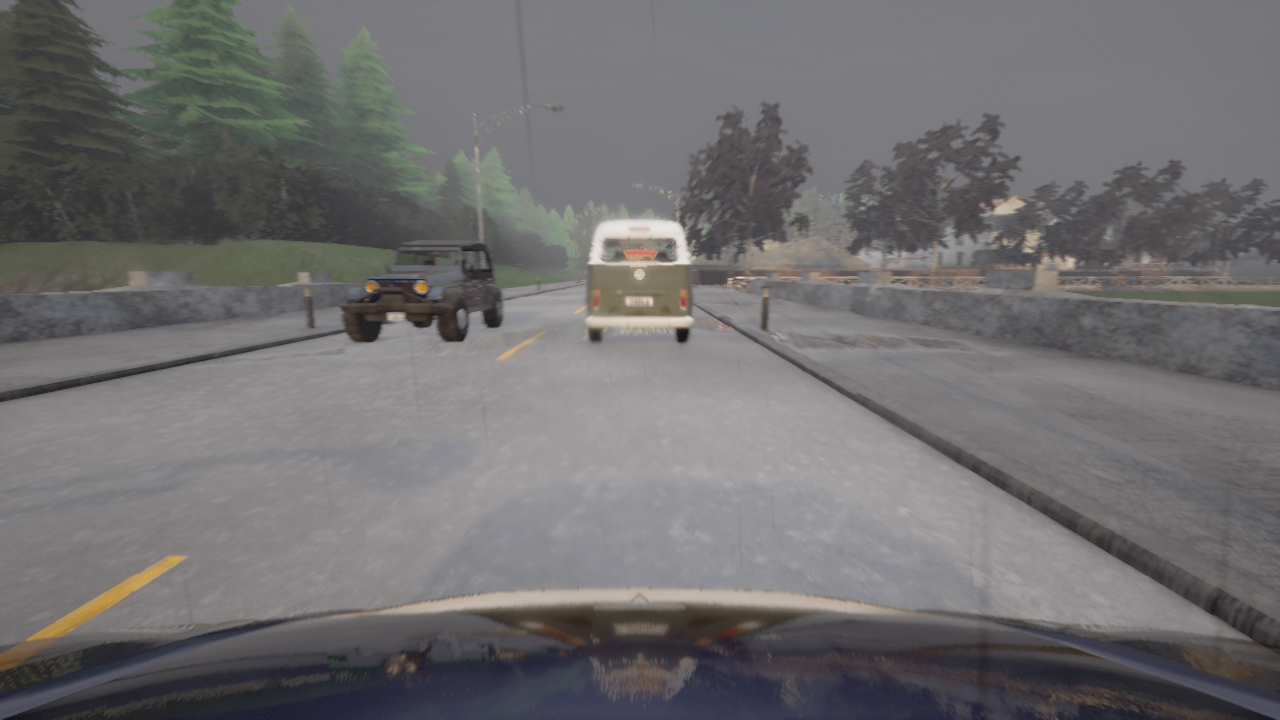cyclist: (0, 588, 1279, 719), (338, 240, 504, 342), (585, 220, 694, 342)
